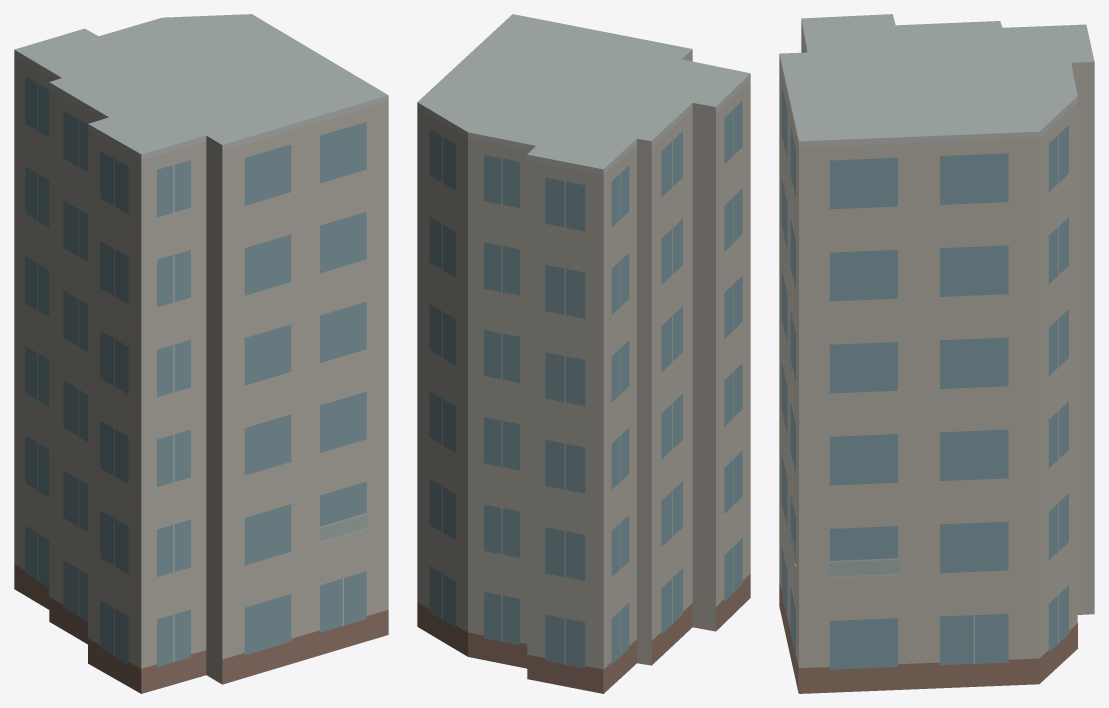
File: survey-upis-32501536.glb
3 renders of one model, left to right at view 1: azimuth 30°, elevation 25°; view 2: azimuth 150°, elevation 25°; view 3: azimuth 270°, elevation 25°, orthographic. The views are drawn at different scales.
Visible parts, largest first — view 1: survey-upis-32501536.tmp; view 2: survey-upis-32501536.tmp; view 3: survey-upis-32501536.tmp.
Part boxes in pixels (x1,y1,x2,y2): survey-upis-32501536.tmp: (14,14,388,693); survey-upis-32501536.tmp: (417,14,750,693); survey-upis-32501536.tmp: (779,14,1094,693).
Bounding box in the file's own units: 10.69 × 21.61 × 11.18.
